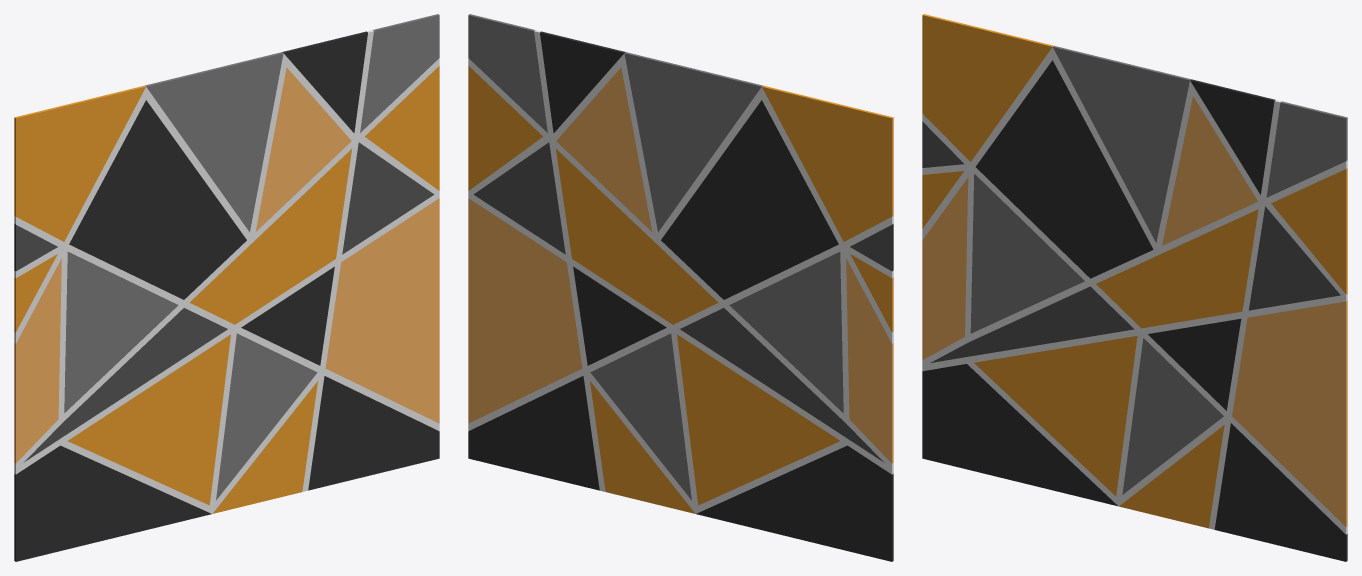
The model's file is Int_DecorPattern02.fbx.
3 views of the same model, side by side, from view 1: azimuth 30°, elevation 25°; view 2: azimuth 150°, elevation 25°; view 3: azimuth 330°, elevation 25° (orthographic).
Parts seen in each view (by area): view 1: Int_DecorPattern02; view 2: Int_DecorPattern02; view 3: Int_DecorPattern02.
Boxes of the visible parts, x1,y1,x2,y2 form: Int_DecorPattern02: (14, 14, 439, 561); Int_DecorPattern02: (468, 14, 893, 561); Int_DecorPattern02: (922, 14, 1347, 561).
Size of the model in its own units: 315 by 2 by 315.
